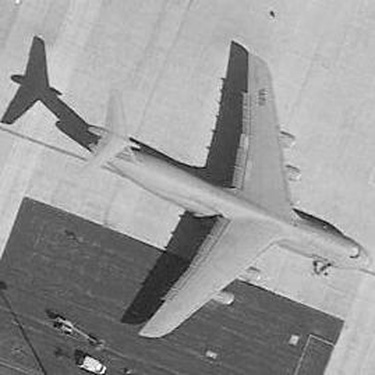airplane: (59, 35, 369, 343)
